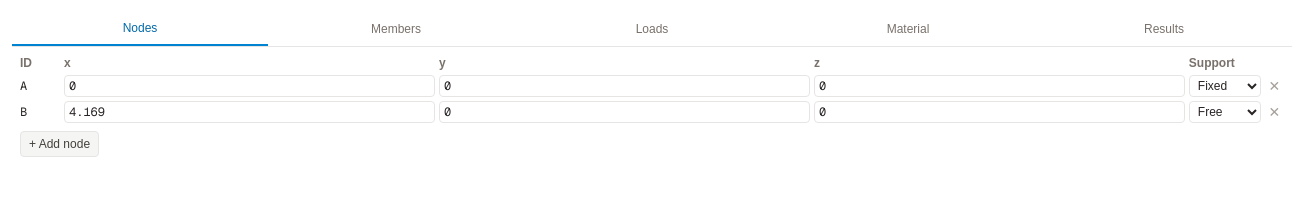
Test: the model's force unit is propagated to the labels (kg presets) › material tab: σ adm and the E/G note use the model unit
The width and height of the screenshot is (1304, 207).
Click the button "material".
click(908, 29)  # box [780, 12, 1036, 46]
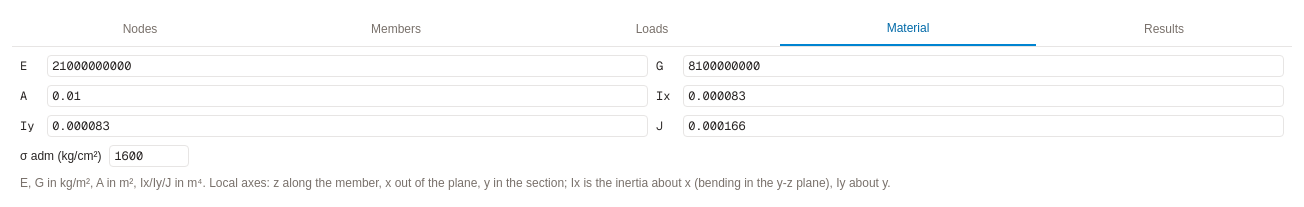
expect the text "σ adm (kg/cm²)" is shown: met, box [20, 148, 101, 164]
expect the text "E, G in kg/m²" is shown: met, box [20, 176, 891, 190]
